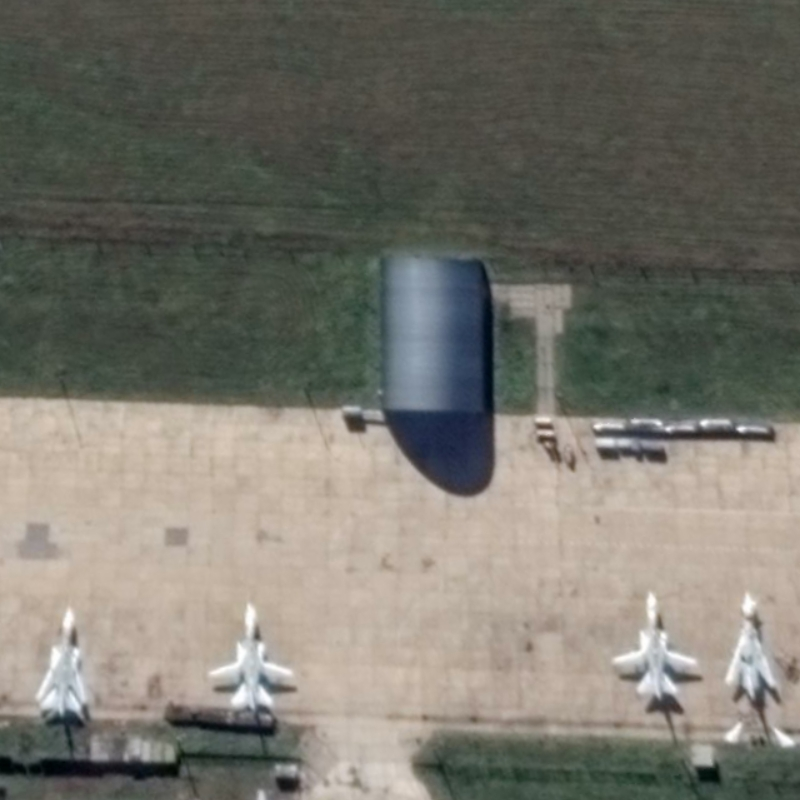A20: (204, 599, 297, 713), (608, 588, 698, 702), (31, 605, 91, 719), (722, 589, 781, 695)
